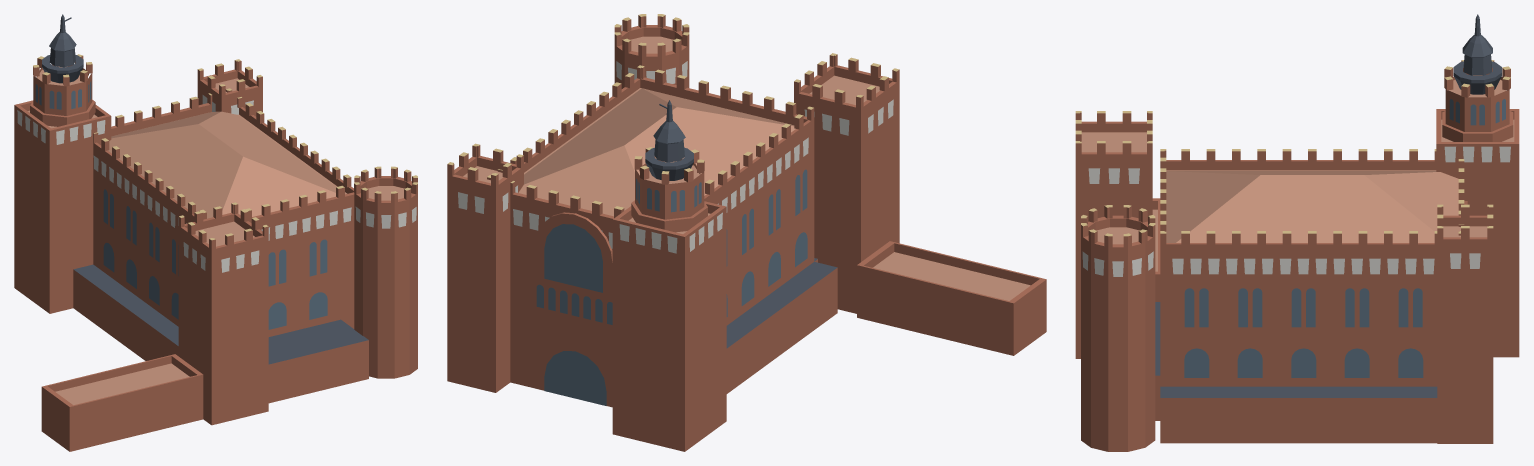
File: barcelona-castell-tres-dragons.glb
The picture shows the model from 3 angles, left to right: view 1: azimuth 30°, elevation 25°; view 2: azimuth 150°, elevation 25°; view 3: azimuth 270°, elevation 25°; orthographic projection. The views are drawn at different scales.
Parts seen in each view (by area): view 1: Castell dels Tres Dragons; view 2: Castell dels Tres Dragons; view 3: Castell dels Tres Dragons.
Boxes of the visible parts, box(x1,y1,x2,y2) form: Castell dels Tres Dragons: box(14, 14, 417, 451); Castell dels Tres Dragons: box(447, 14, 1046, 451); Castell dels Tres Dragons: box(1075, 14, 1519, 451).
Size of the model in its own units: 49.62 by 37.4 by 46.22.
